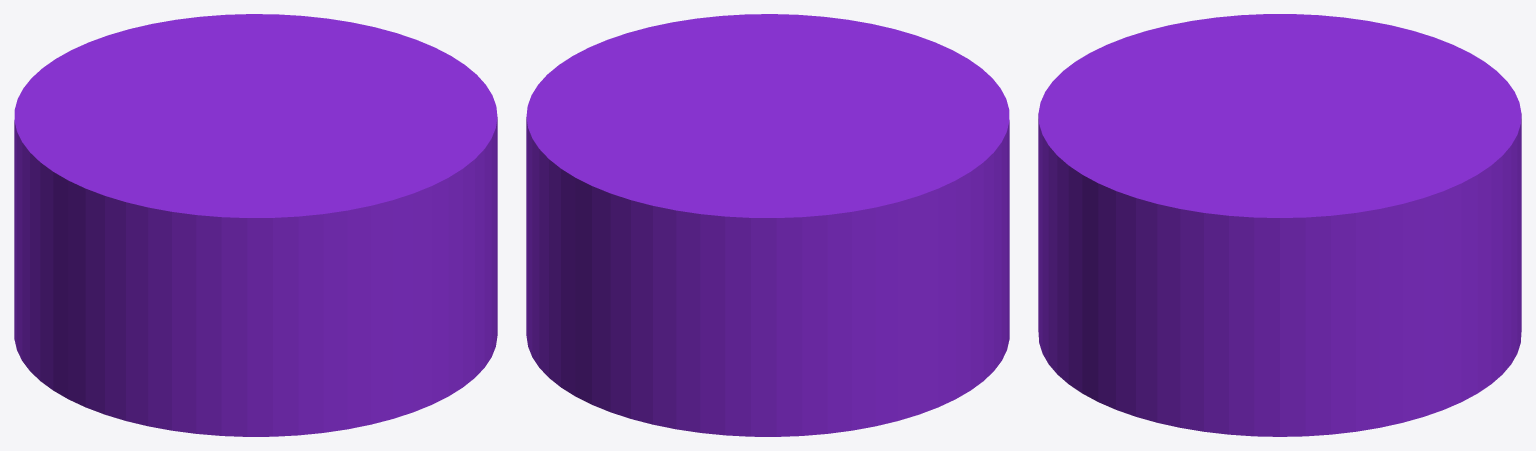
The model's file is cylinder_purple.dae.
The picture shows the model from 3 angles, left to right: view 1: azimuth 30°, elevation 25°; view 2: azimuth 150°, elevation 25°; view 3: azimuth 270°, elevation 25°; orthographic projection.
Visible parts, largest first — view 1: cylinder; view 2: cylinder; view 3: cylinder.
Part boxes in pixels (box(x1,y1,x2,y2)): cylinder: box(14, 14, 497, 436); cylinder: box(526, 14, 1009, 436); cylinder: box(1038, 14, 1521, 436).
Bounding box in the file's own units: 0.01 × 0.01 × 0.005.
